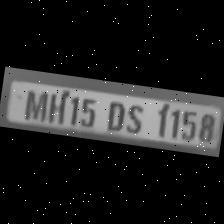1: (148, 102, 173, 138), (58, 90, 78, 126), (166, 104, 183, 138)
5: (72, 94, 100, 129), (176, 105, 199, 140)
8: (195, 108, 219, 143)
D: (100, 96, 127, 132)
H: (47, 89, 68, 124)
M: (20, 86, 47, 122)
S: (121, 99, 148, 135)
